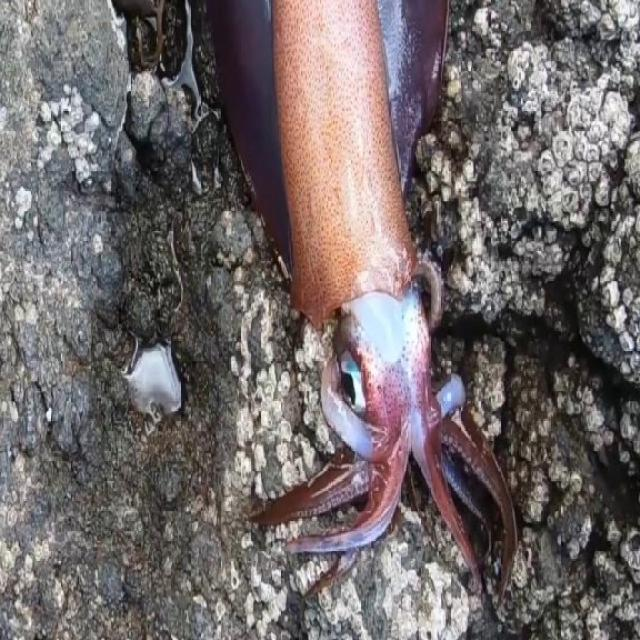SQUID: (141, 0, 561, 640)
